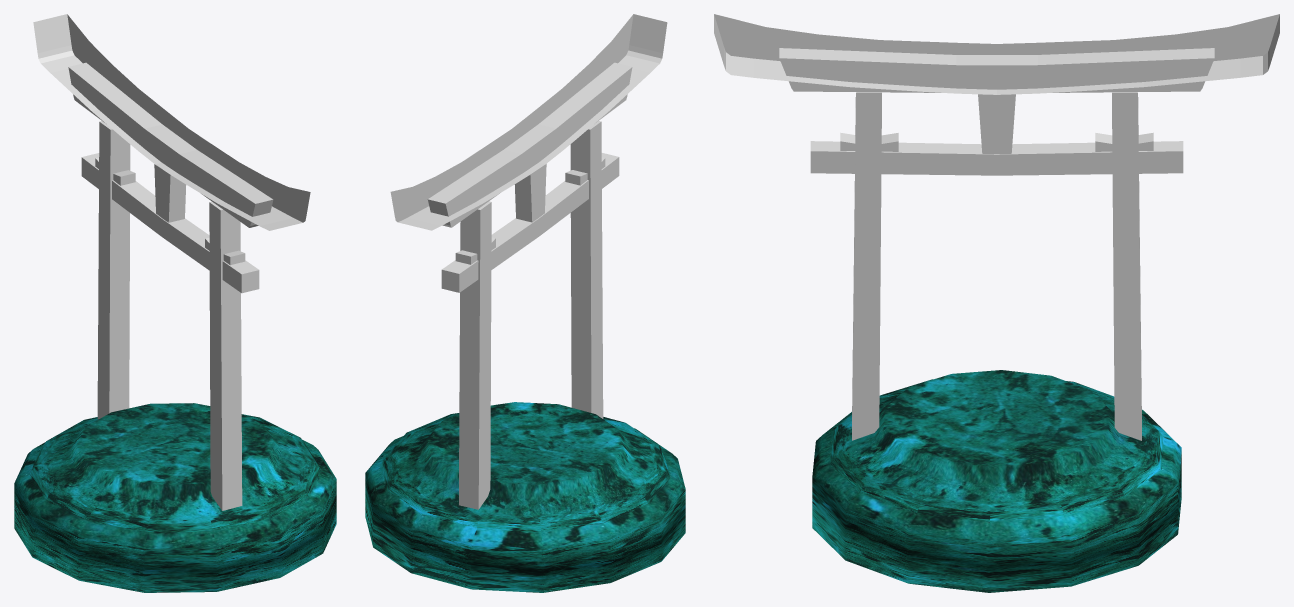
The model's file is torii.glb.
The picture shows the model from 3 angles, left to right: view 1: azimuth 30°, elevation 25°; view 2: azimuth 150°, elevation 25°; view 3: azimuth 270°, elevation 25°; orthographic projection. The views are drawn at different scales.
Visible parts, largest first — view 1: Cylinder.021, Vert.011; view 2: Cylinder.021, Vert.011; view 3: Cylinder.021, Vert.011.
Boxes of the visible parts, x1,y1,x2,y2 form: Cylinder.021: (14, 403, 336, 592); Vert.011: (33, 14, 310, 510); Cylinder.021: (365, 402, 685, 592); Vert.011: (390, 14, 667, 509); Cylinder.021: (812, 370, 1181, 592); Vert.011: (714, 14, 1279, 440).
Size of the model in its own units: 2 by 2.87 by 3.02.
Materials: 1 (1 with a texture image).
